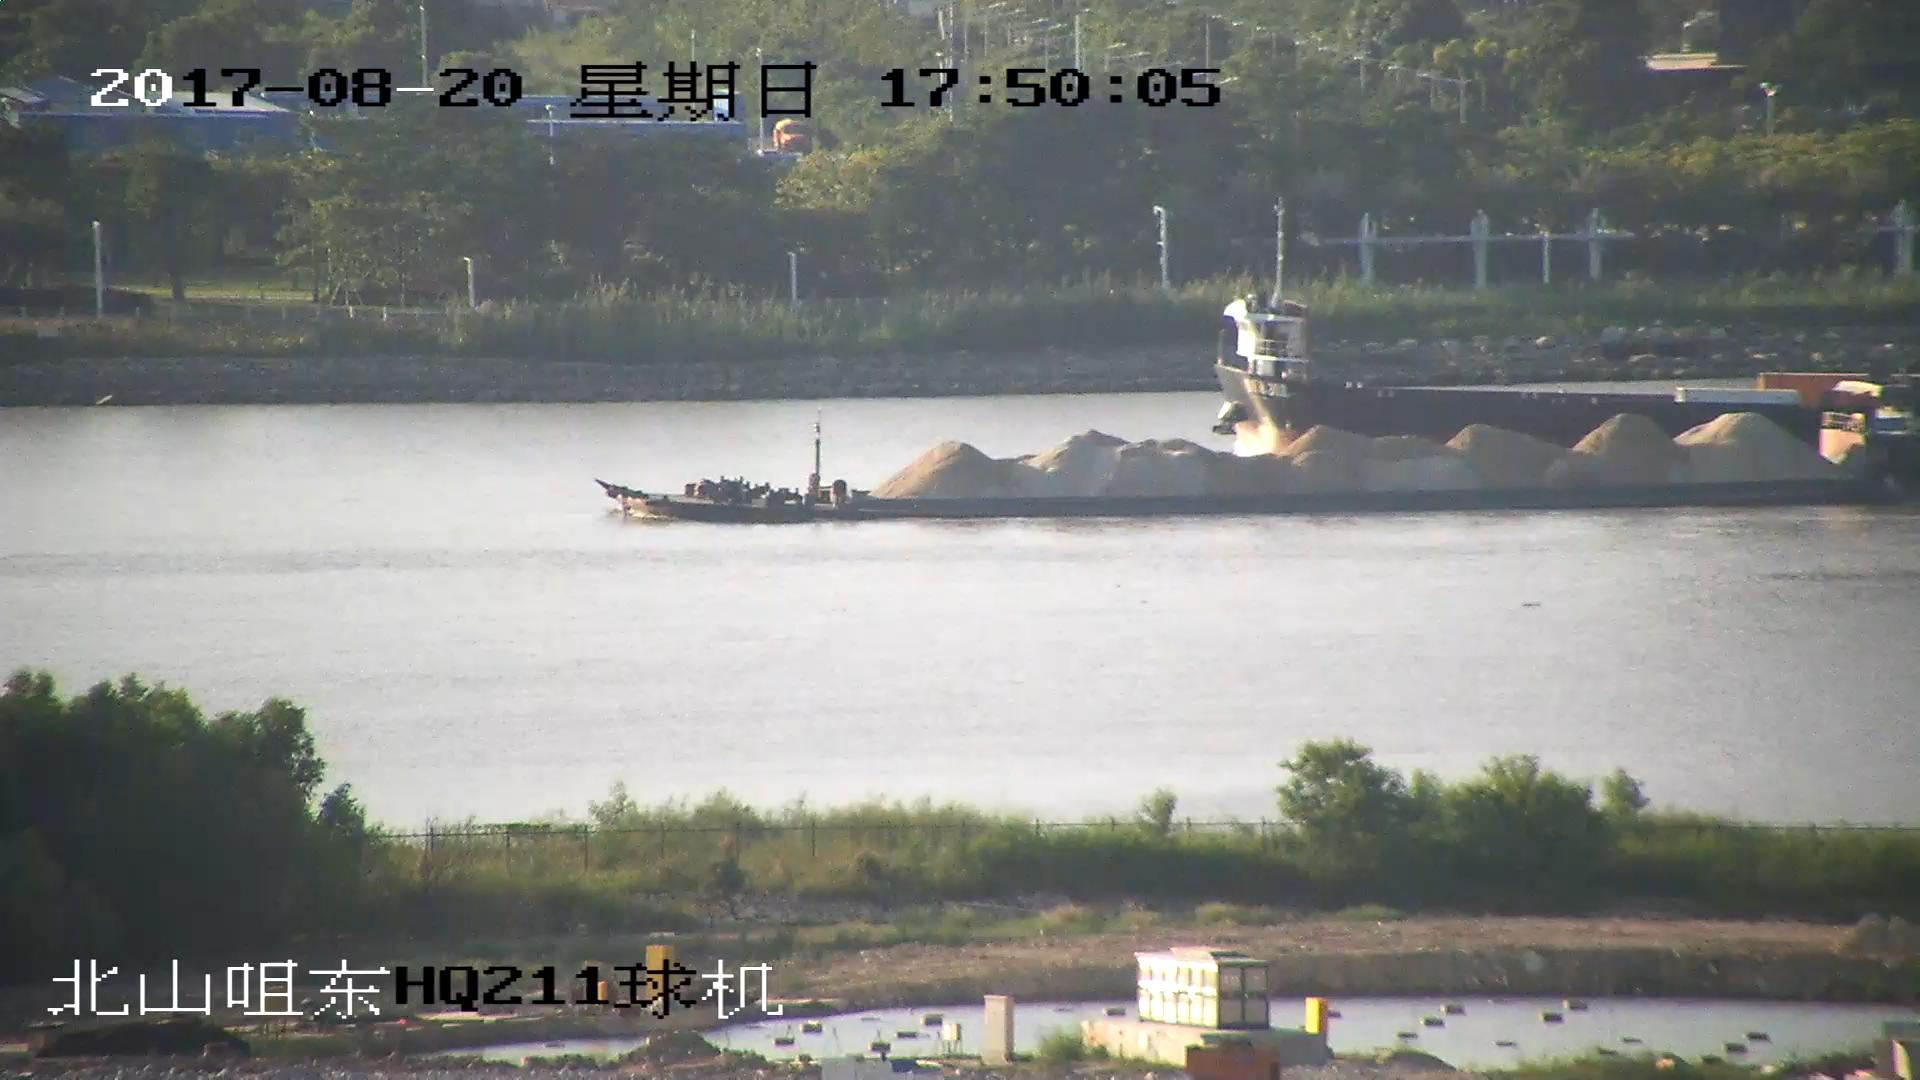general cargo ship: (1206, 207, 1920, 453)
ore carrier: (601, 393, 1920, 525)
